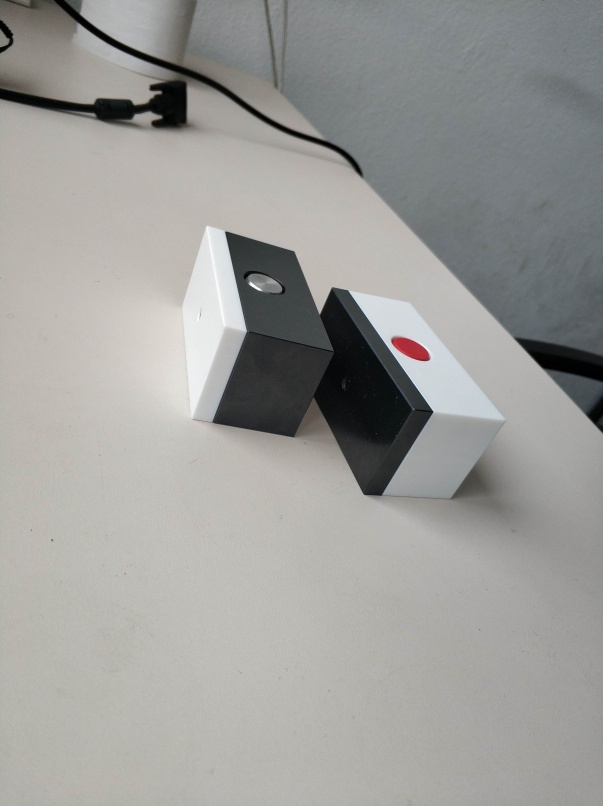black+white+red: (316, 287, 509, 503)
white+black+silver: (177, 225, 337, 437)
